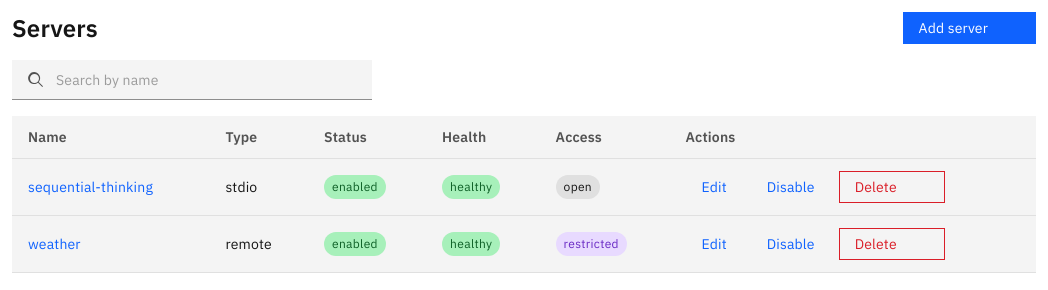
Test: Servers catalog › renders rows with health tags and filters via search
The image size is (1048, 290).
Expected: the link "sequential-thinking" is shown, [28,178,153,196]
Expected: the link "weather" is shown, [28,235,81,253]
Step 1. Type "weather" into the field with placeholder "Search by name" → (192,80), box [12,60,372,100]
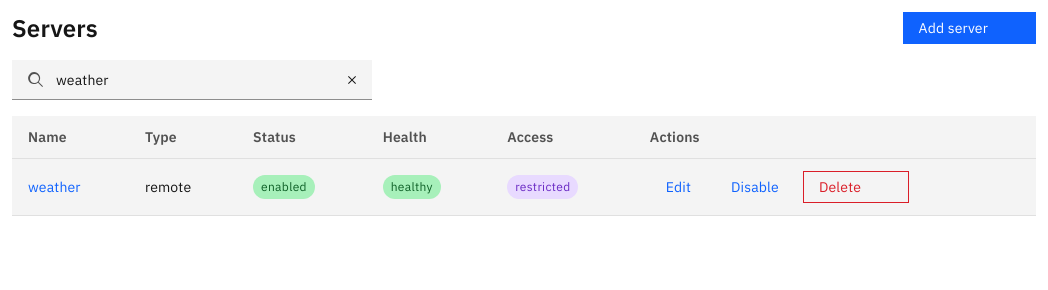
Expected: the link "weather" is shown, [28,178,81,196]
Result: the link "sequential-thinking" is gone
